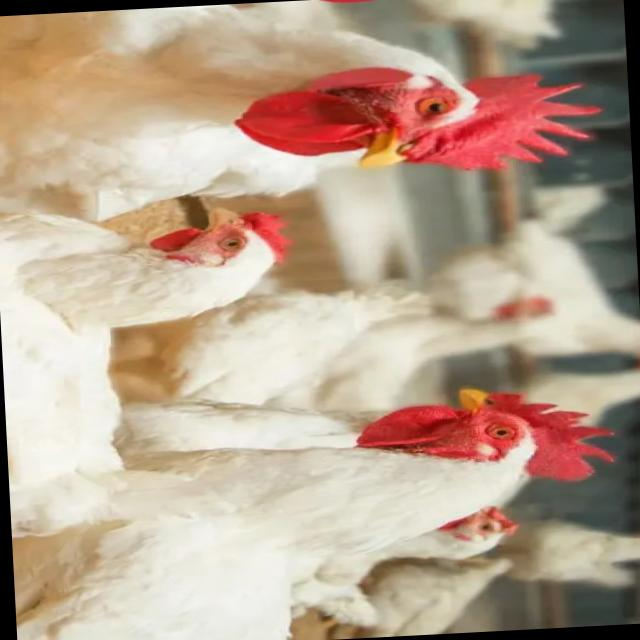Healthy: (4, 378, 626, 640), (0, 0, 610, 210), (0, 200, 306, 527)
